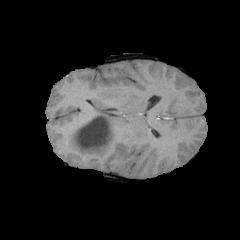glioma: (66, 106, 124, 161)
